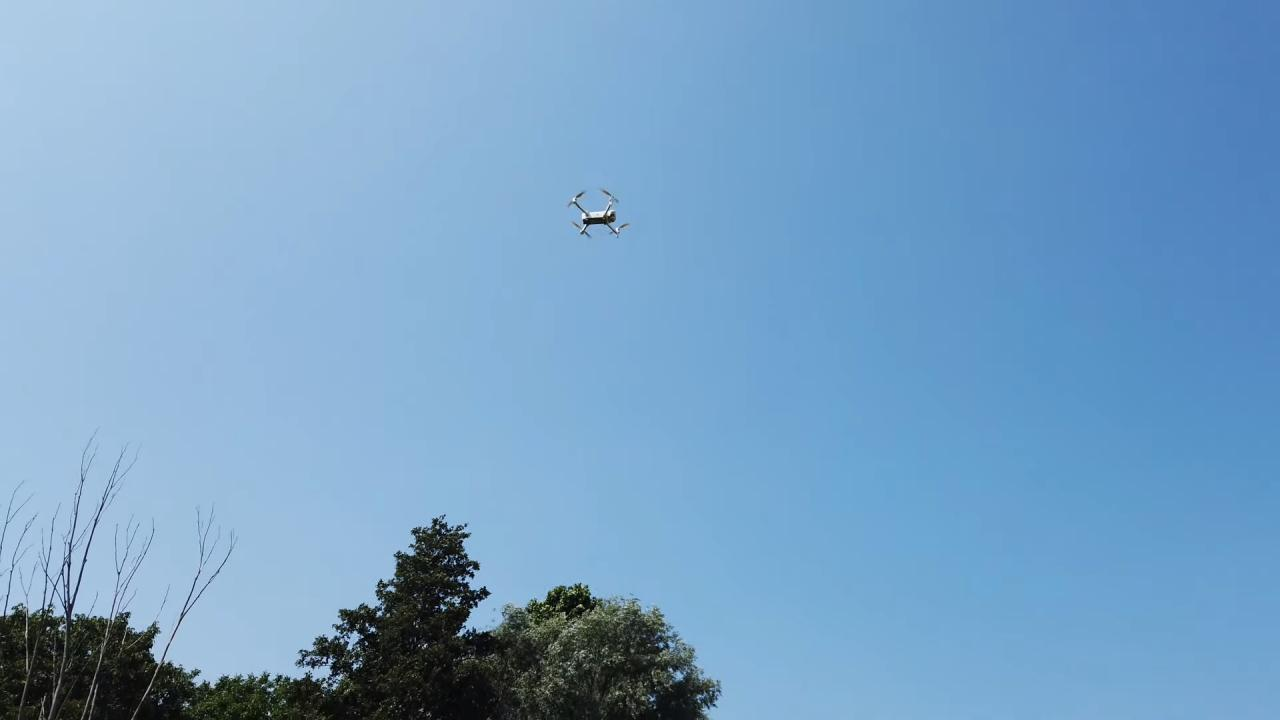Drone: (559, 180, 640, 249)
